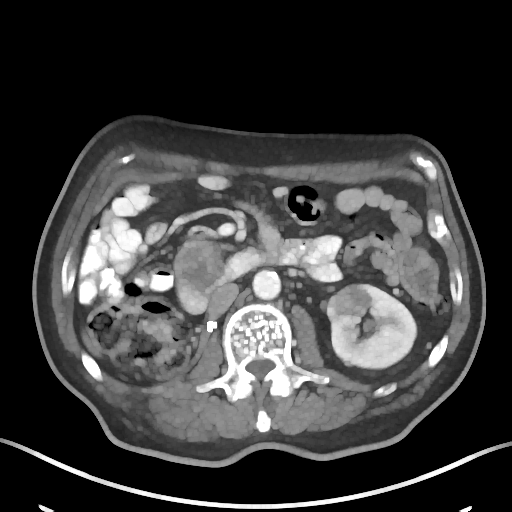Lesion: (331, 287, 374, 319)
